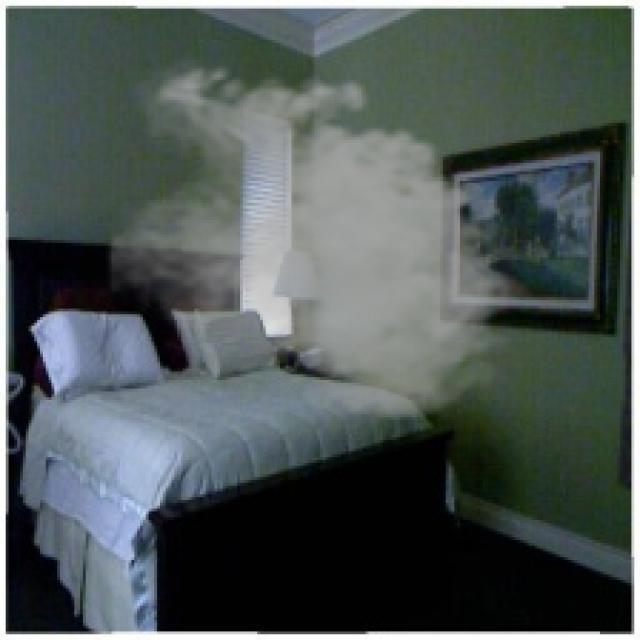Smoke: (106, 54, 528, 429)
